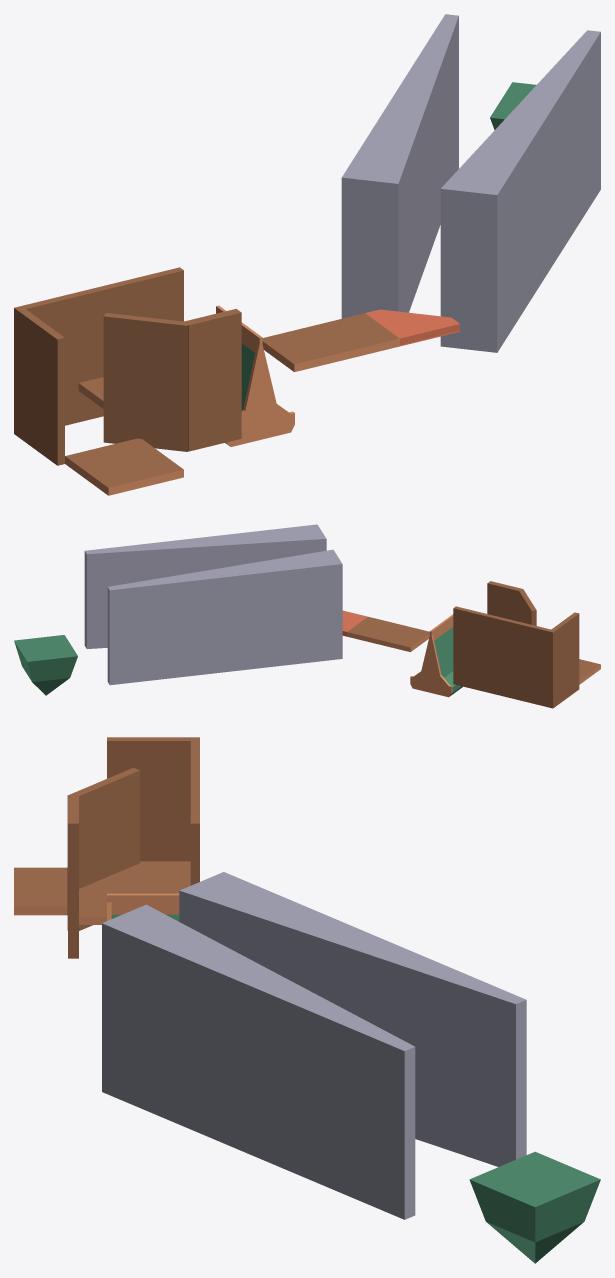
Rendered from newStage.model.fbx.
3 views of the same model, one above another, from view 1: azimuth 30°, elevation 25°; view 2: azimuth 150°, elevation 25°; view 3: azimuth 270°, elevation 25° (orthographic). The views are drawn at different scales.
Parts seen in each view (by area): view 1: wall_edge_30, wall_edge_29, porch_floor_center_3, porch_floor_center_24, porch_floor_center_4, porch_floor_center_6, porch_floor_center_17, porch_floor_center_12, porch_floor_center_2, porch_floor_center_25, roof_11, block_corner_large_26 (+1 smaller); view 2: wall_edge_29, wall_edge_30, porch_floor_center_3, porch_floor_center_25, roof_point_divided_33, porch_floor_center_4, roof_11, porch_floor_center_12, porch_floor_center_24, porch_floor_center_17, block_corner_large_26, porch_floor_center_2; view 3: wall_edge_30, wall_edge_29, roof_point_divided_33, porch_floor_center_4, porch_floor_center_17, porch_floor_center_6, porch_floor_center_2, porch_floor_center_24, porch_floor_center_5, roof_11, porch_floor_center_3, porch_floor_center_21 (+2 smaller).
Part boxes in pixels (bbox=[...]): wall_edge_30: bbox=[440, 30, 600, 352]; wall_edge_29: bbox=[341, 14, 458, 318]; porch_floor_center_3: bbox=[22, 267, 183, 425]; porch_floor_center_24: bbox=[184, 308, 241, 451]; porch_floor_center_4: bbox=[14, 306, 64, 465]; porch_floor_center_6: bbox=[103, 363, 188, 451]; porch_floor_center_17: bbox=[103, 313, 189, 404]; porch_floor_center_12: bbox=[262, 313, 399, 371]; porch_floor_center_2: bbox=[65, 438, 183, 495]; porch_floor_center_25: bbox=[23, 290, 101, 425]; roof_11: bbox=[216, 305, 294, 446]; block_corner_large_26: bbox=[365, 309, 459, 346]; wall_edge_29: bbox=[107, 549, 342, 685]; wall_edge_30: bbox=[84, 524, 326, 648]; porch_floor_center_3: bbox=[453, 606, 550, 707]; porch_floor_center_25: bbox=[503, 618, 549, 706]; roof_point_divided_33: bbox=[14, 635, 77, 695]; porch_floor_center_4: bbox=[548, 612, 579, 708]; roof_11: bbox=[410, 614, 462, 697]; porch_floor_center_12: bbox=[347, 616, 429, 651]; porch_floor_center_24: bbox=[487, 581, 521, 621]; porch_floor_center_17: bbox=[519, 589, 536, 625]; block_corner_large_26: bbox=[342, 610, 367, 636]; porch_floor_center_2: bbox=[579, 659, 600, 684]; wall_edge_30: bbox=[102, 904, 415, 1219]; wall_edge_29: bbox=[179, 872, 526, 1166]; roof_point_divided_33: bbox=[469, 1151, 600, 1263]; porch_floor_center_4: bbox=[107, 737, 199, 861]; porch_floor_center_17: bbox=[67, 767, 139, 879]; porch_floor_center_6: bbox=[67, 821, 139, 930]; porch_floor_center_2: bbox=[14, 867, 67, 915]; porch_floor_center_24: bbox=[68, 796, 78, 958]; porch_floor_center_5: bbox=[135, 861, 190, 893]; roof_11: bbox=[107, 893, 179, 921]; porch_floor_center_3: bbox=[190, 741, 199, 885]; porch_floor_center_21: bbox=[88, 881, 116, 924].
Bounding box in the file's own units: 98.07 × 25 × 63.07.
